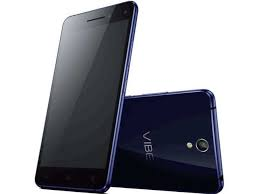lenovo: (31, 1, 139, 193)
